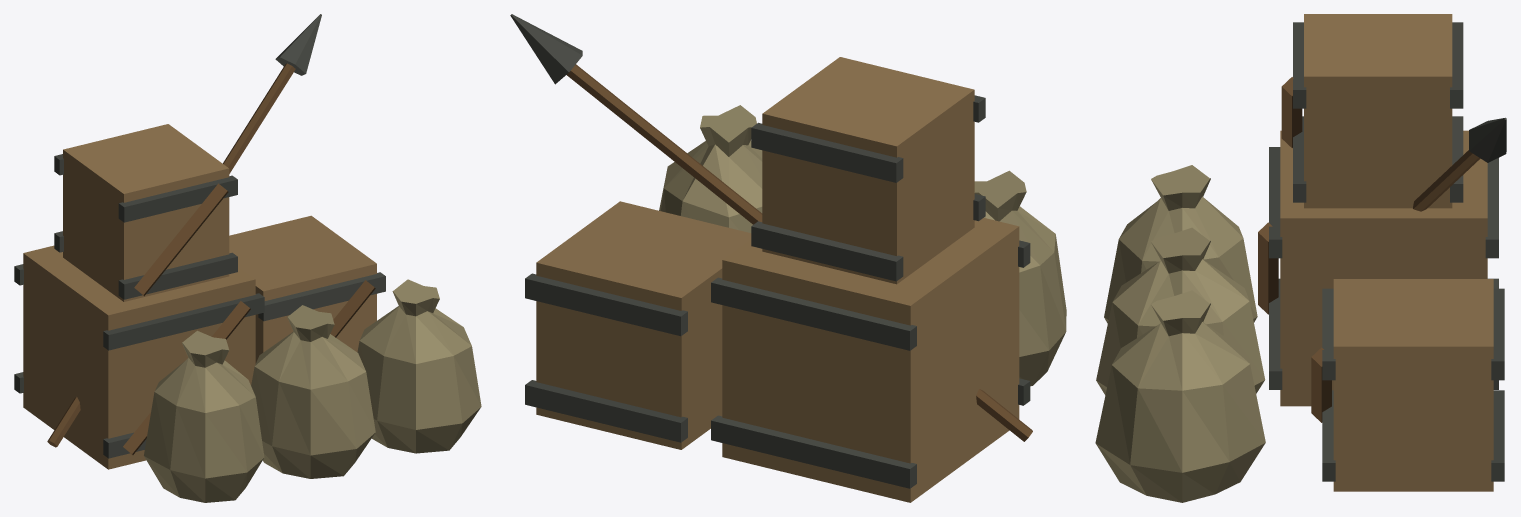
The model's file is supply-pile.glb.
3 views of the same model, side by side, from view 1: azimuth 30°, elevation 25°; view 2: azimuth 150°, elevation 25°; view 3: azimuth 270°, elevation 25° (orthographic). The views are drawn at different scales.
Visible parts, largest first — view 1: supply-pile; view 2: supply-pile; view 3: supply-pile.
Boxes of the visible parts, x1,y1,x2,y2 form: supply-pile: (14, 14, 481, 502); supply-pile: (510, 14, 1066, 502); supply-pile: (1095, 14, 1506, 502).
Bounding box in the file's own units: 1.72 × 1.42 × 1.39.
